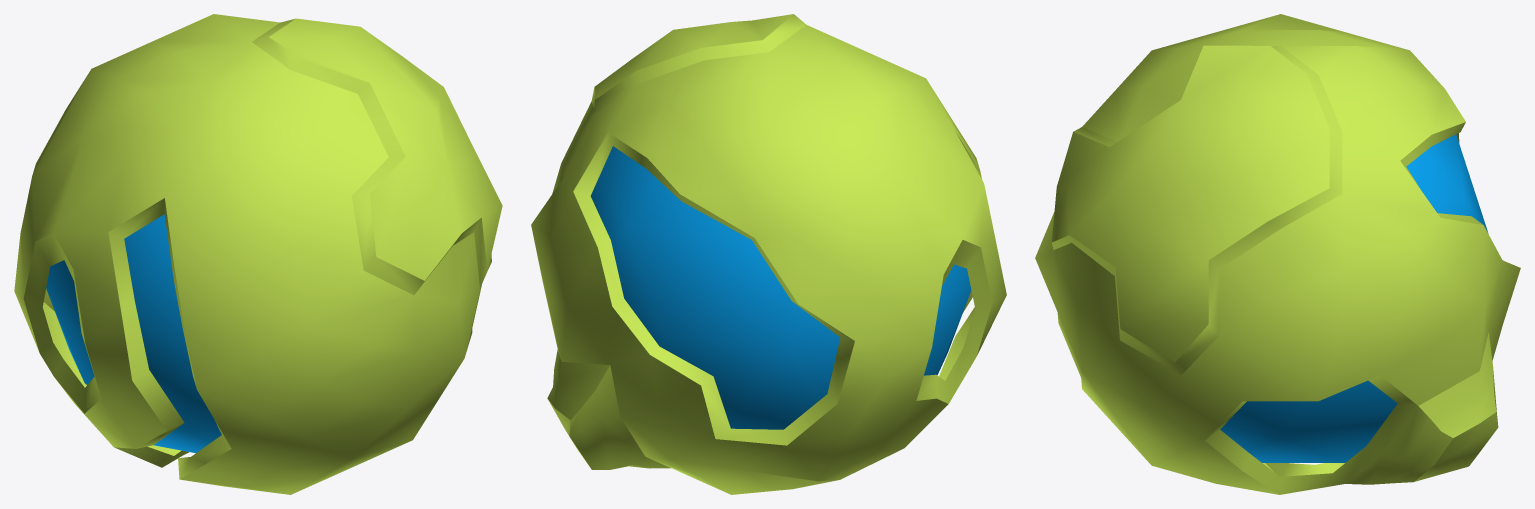
The model's file is planet_01.gltf.
3 views of the same model, side by side, from view 1: azimuth 30°, elevation 25°; view 2: azimuth 150°, elevation 25°; view 3: azimuth 270°, elevation 25° (orthographic). The views are drawn at different scales.
Visible parts, largest first — view 1: Icosphere; view 2: Icosphere; view 3: Icosphere.
Part boxes in pixels (<box>): Icosphere: <box>14,14,502,494</box>; Icosphere: <box>531,14,1006,494</box>; Icosphere: <box>1035,14,1520,494</box>.
Bounding box in the file's own units: 1.93 × 1.94 × 1.98.
